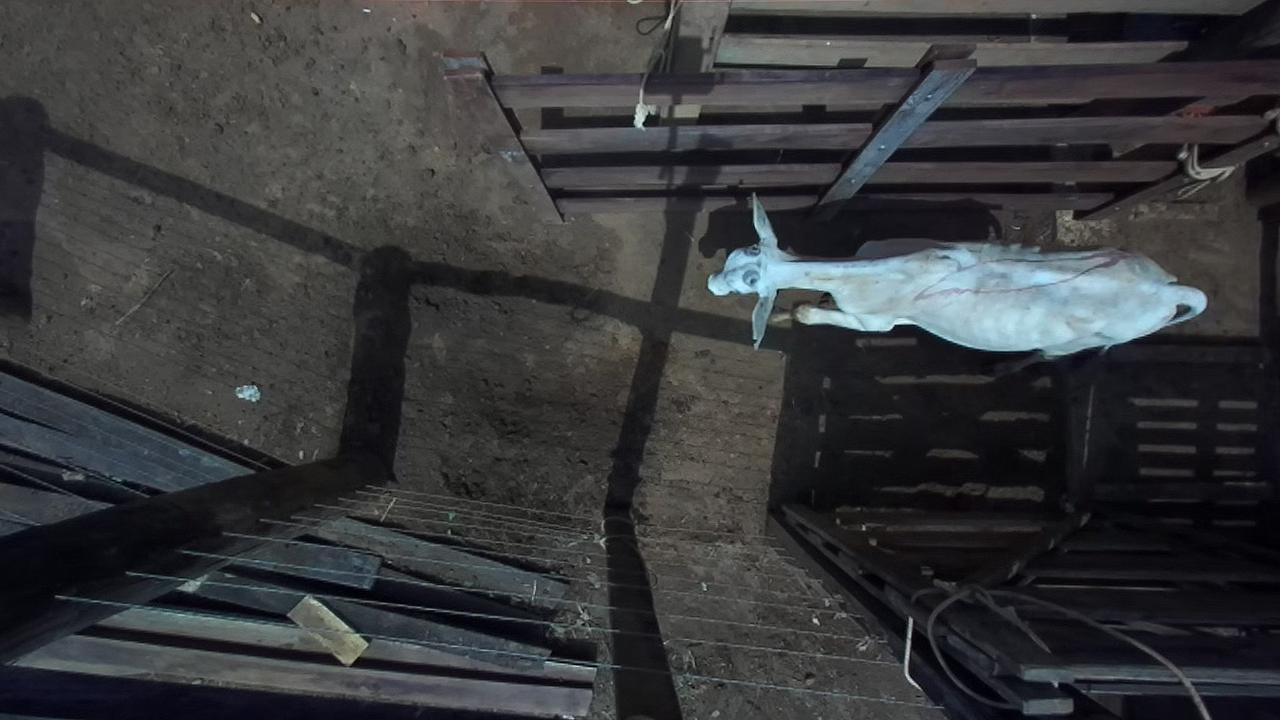cattle: (704, 190, 1208, 358)
